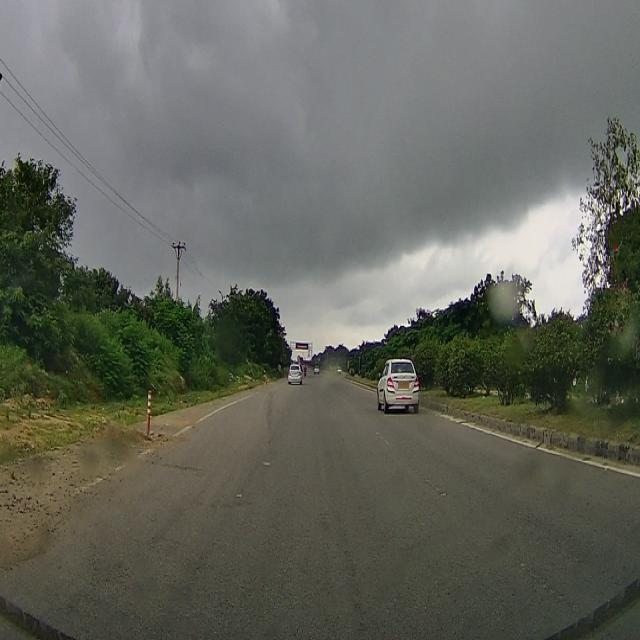barrier ahead at: (144, 386, 155, 442)
car ahead at: (376, 348, 422, 418)
